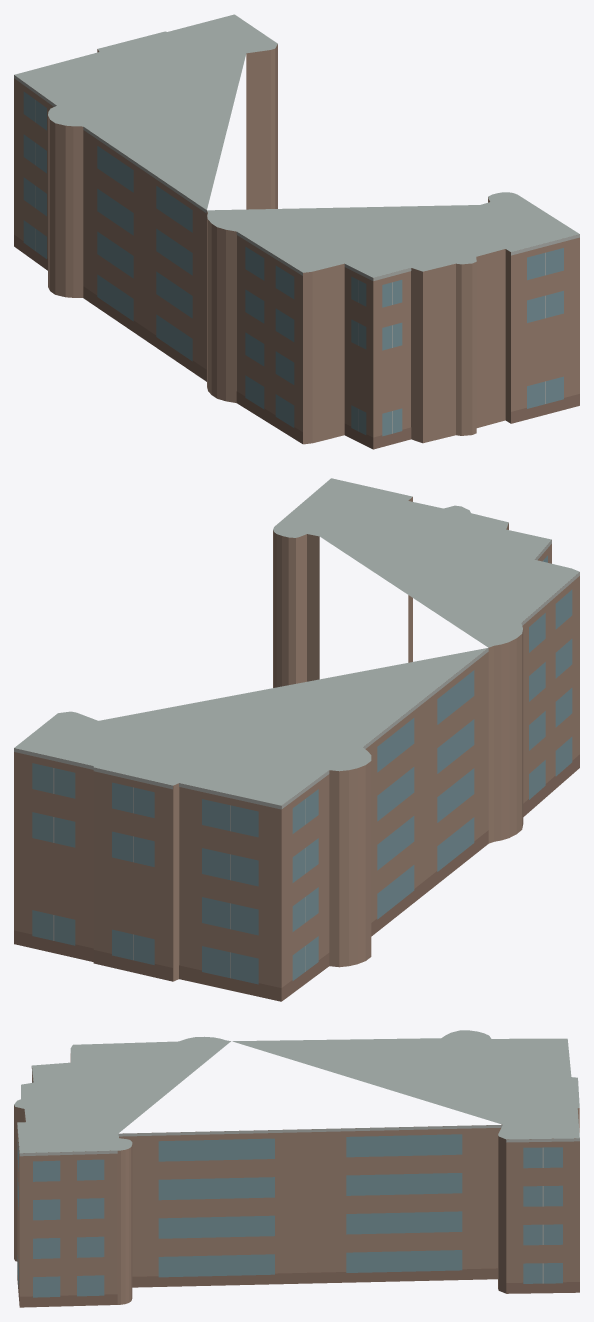
File: survey-upis-33006964.glb
3 renders of one model, top to bottom at view 1: azimuth 30°, elevation 25°; view 2: azimuth 150°, elevation 25°; view 3: azimuth 270°, elevation 25°, orthographic. The views are drawn at different scales.
Parts seen in each view (by area): view 1: survey-upis-33006964.tmp; view 2: survey-upis-33006964.tmp; view 3: survey-upis-33006964.tmp.
Boxes of the visible parts, x1,y1,x2,y2 form: survey-upis-33006964.tmp: (14,14,579,449); survey-upis-33006964.tmp: (14,478,579,1001); survey-upis-33006964.tmp: (14,1030,579,1307).
Bounding box in the file's own units: 21.35 × 12.5 × 41.55.
